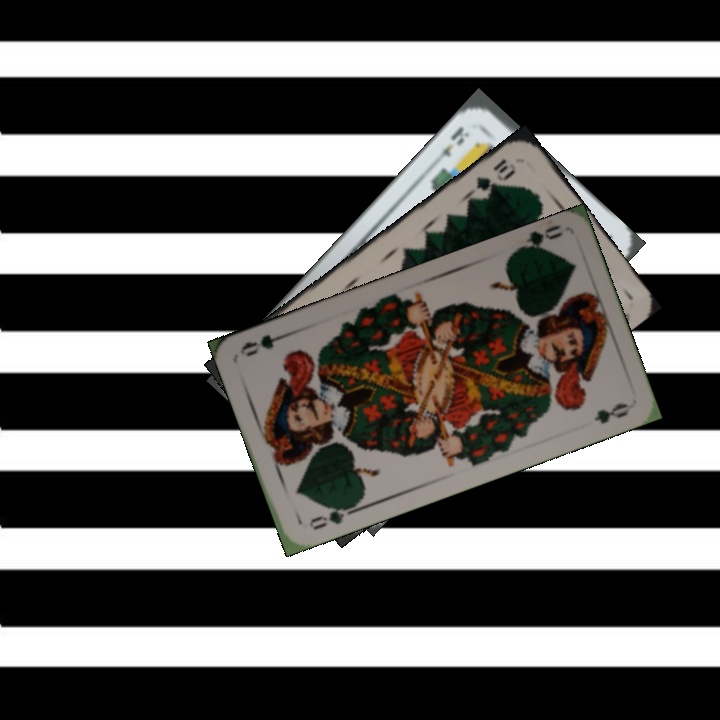EK: (431, 122, 473, 165)
G10: (472, 154, 519, 194)
GO: (510, 220, 565, 256), (304, 501, 359, 533)
